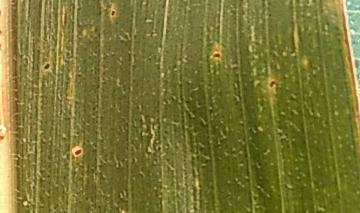tarspot: (209, 48, 223, 61), (71, 146, 84, 159), (39, 59, 53, 71), (268, 78, 278, 89), (108, 7, 118, 18)
